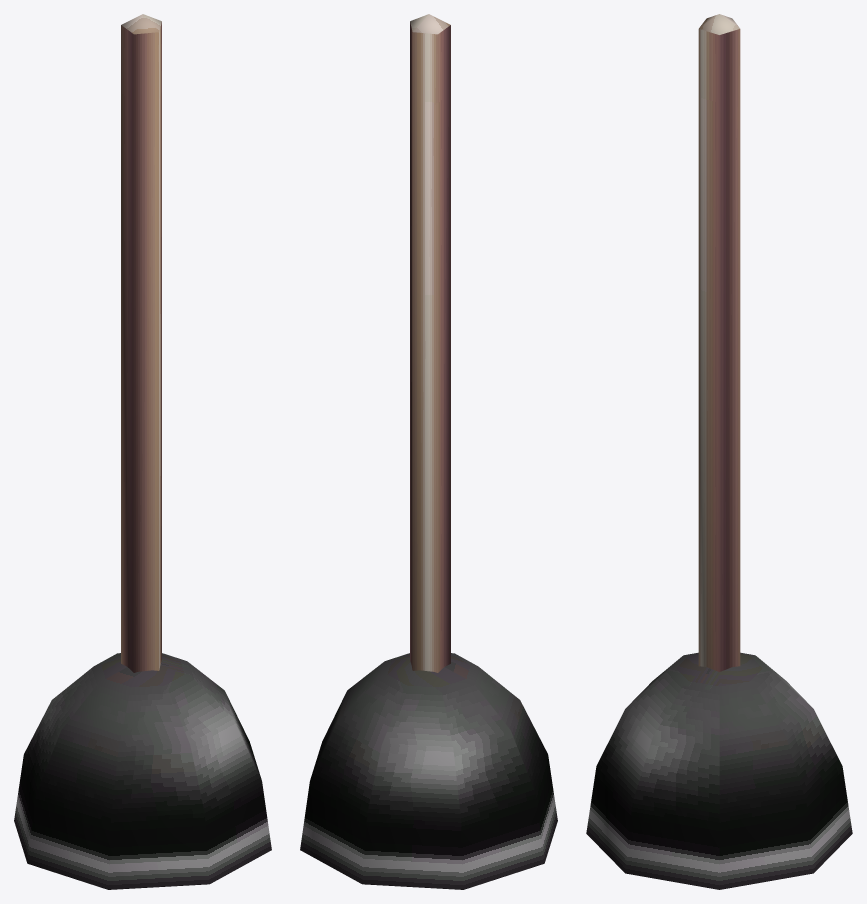
File: toilet_plunger.fbx
The picture shows the model from 3 angles, left to right: view 1: azimuth 30°, elevation 25°; view 2: azimuth 150°, elevation 25°; view 3: azimuth 270°, elevation 25°; orthographic projection.
Parts seen in each view (by area): view 1: mesh_0; view 2: mesh_0; view 3: mesh_0.
Part boxes in pixels (x1,y1,x2,y2): mesh_0: (14, 14, 271, 889); mesh_0: (300, 14, 557, 889); mesh_0: (586, 14, 852, 889).
Size of the model in its own units: 22.7 by 77.07 by 22.7.
1 material, 1 textured.
